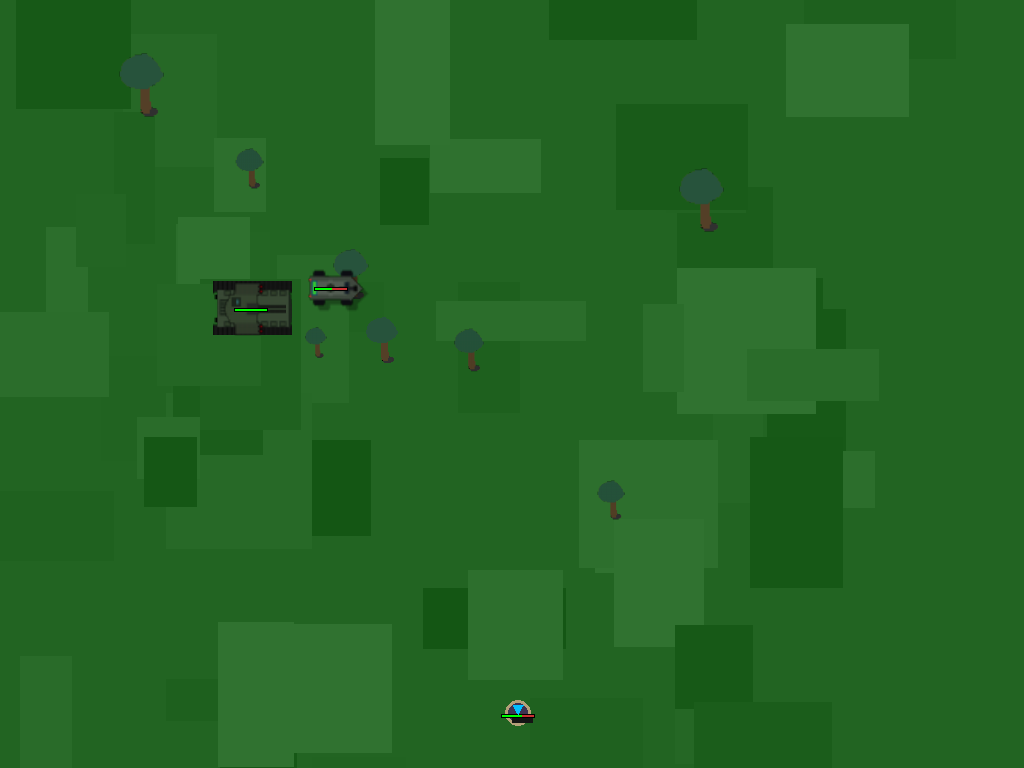ArmoredCar: (308, 263, 354, 309)
RocketTrooper: (497, 693, 538, 734)
TerminatorIFV: (220, 276, 282, 338)
